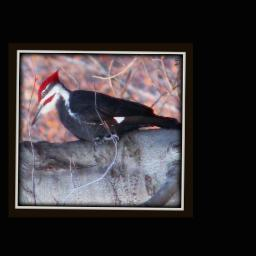Woodpecker: (31, 69, 183, 153)
